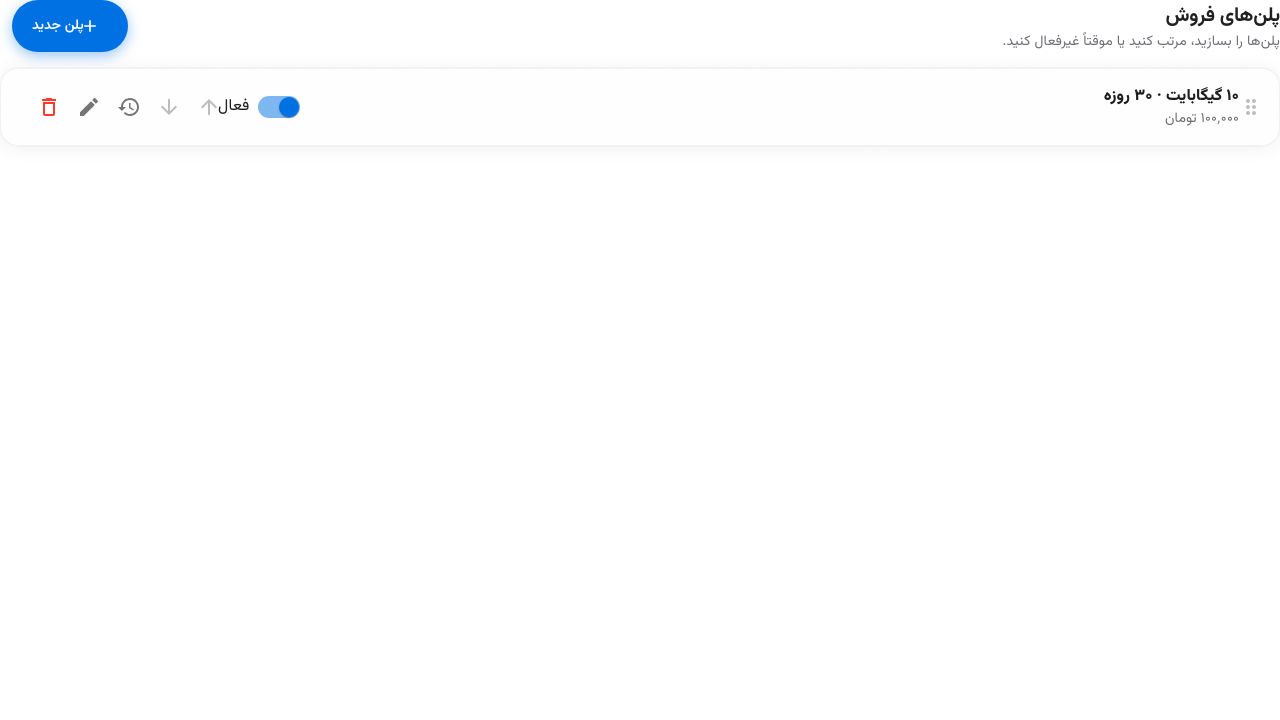
Test: storefront Release B administration › plain conflict reload discards a stale plan edit instead of reapplying it
This screenshot has width=1280, height=720.
Click the button named "ویرایش پلن": (89, 107) [69, 87, 109, 127]
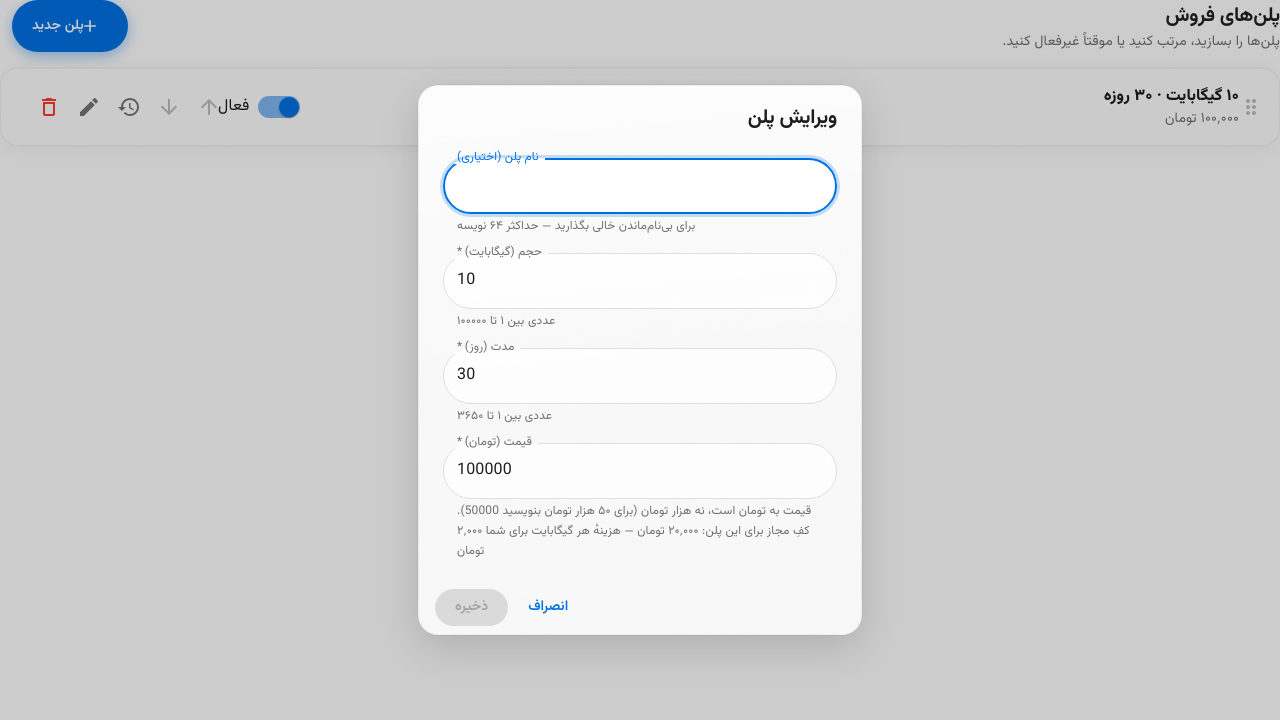
Clear the field labelled "حجم (گیگابایت) *": (640, 281) [443, 253, 837, 309]
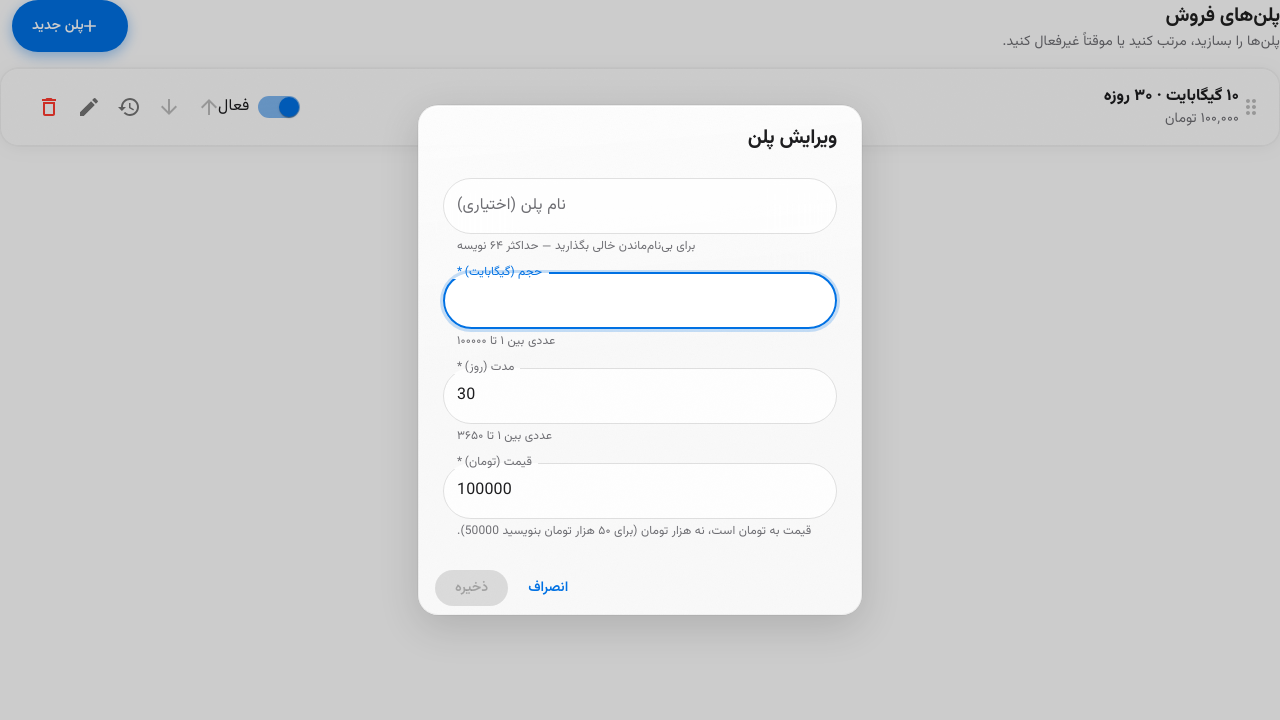
In the field labelled "حجم (گیگابایت) *": (640, 301) [443, 273, 837, 329], type "11"
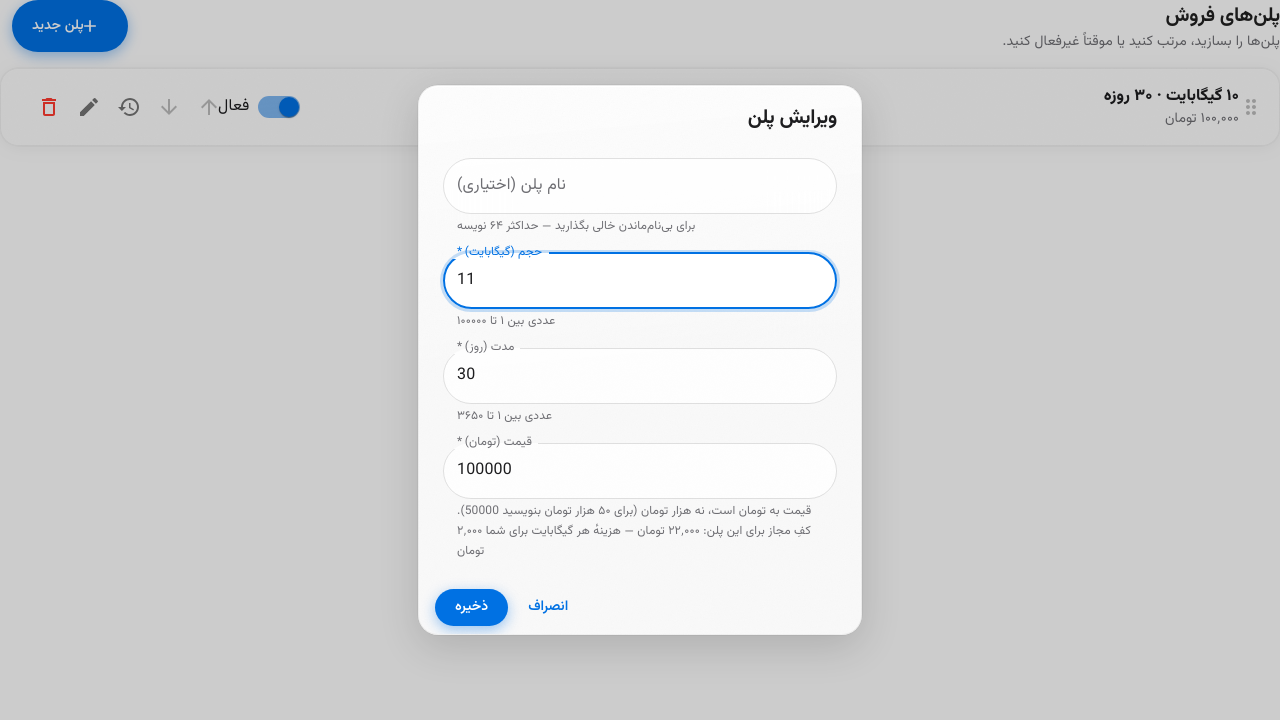
Click the button "ذخیره": (472, 608) [435, 590, 508, 626]
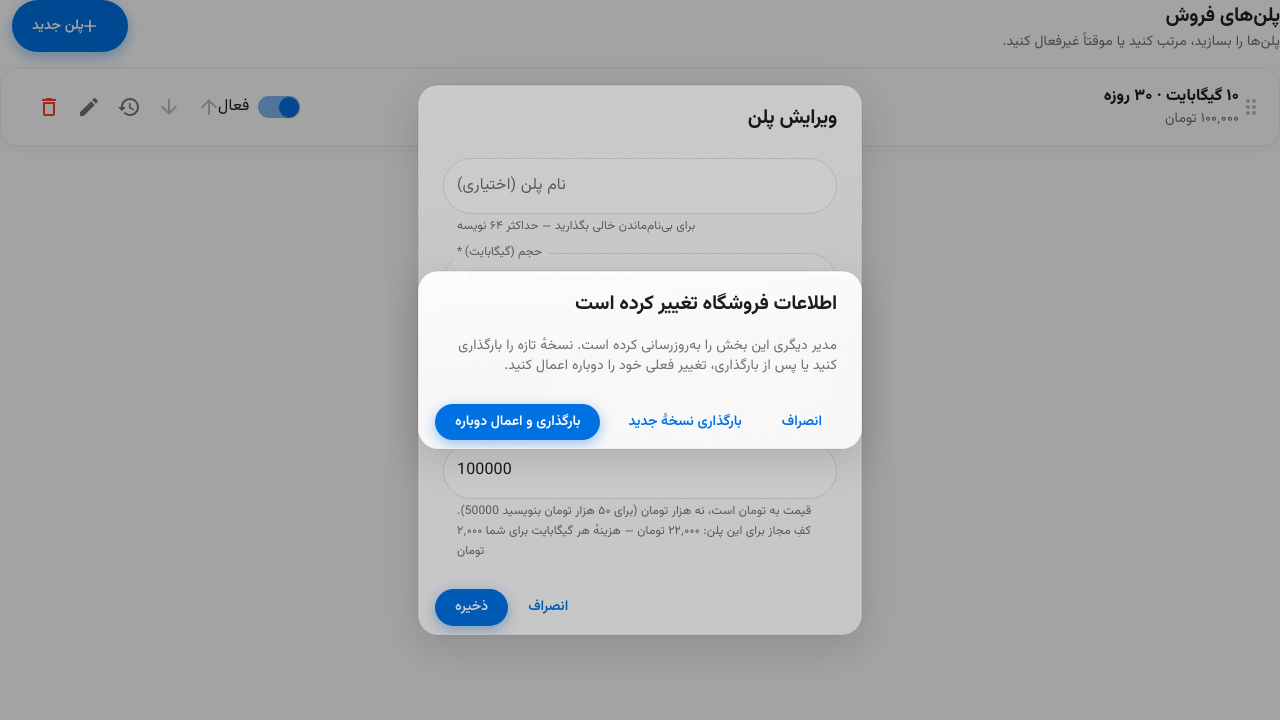
Click the button "بارگذاری نسخهٔ جدید": (685, 422) [608, 404, 762, 440]
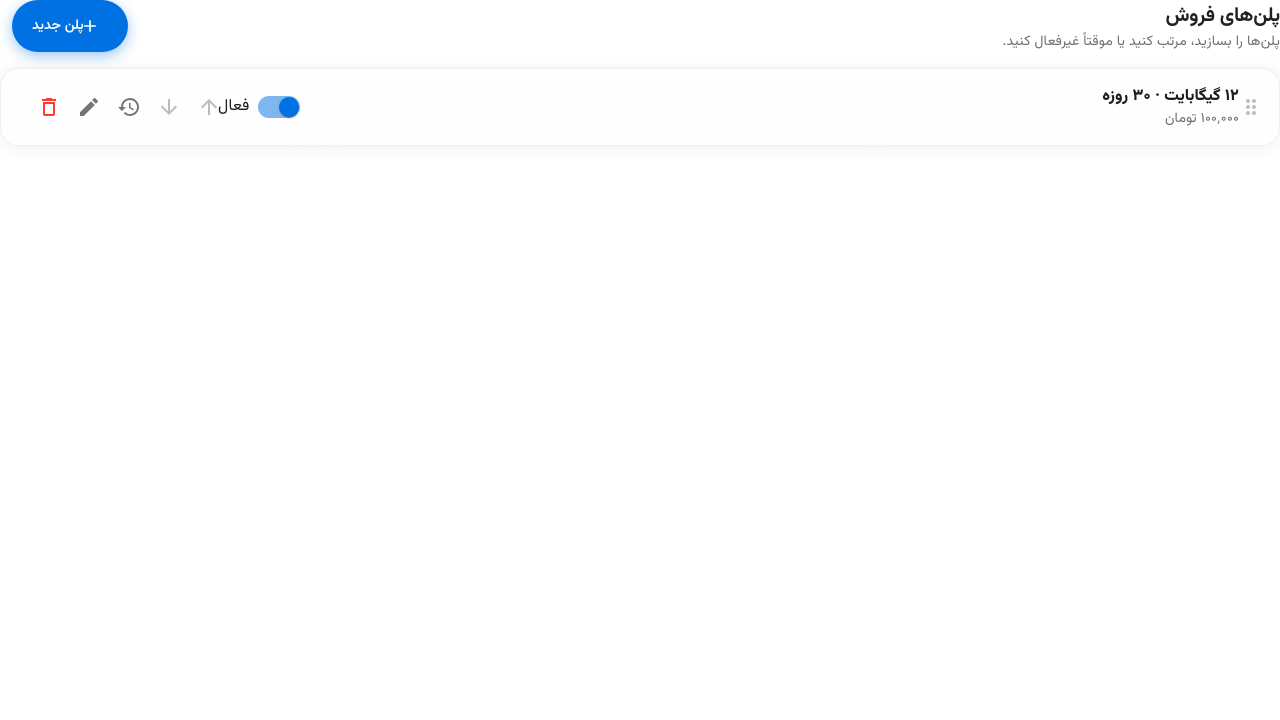
Result: the heading "ویرایش پلن" is gone
Result: the text "۱۲ گیگابایت · ۳۰ روزه" is shown at [1102, 85, 1239, 109]
